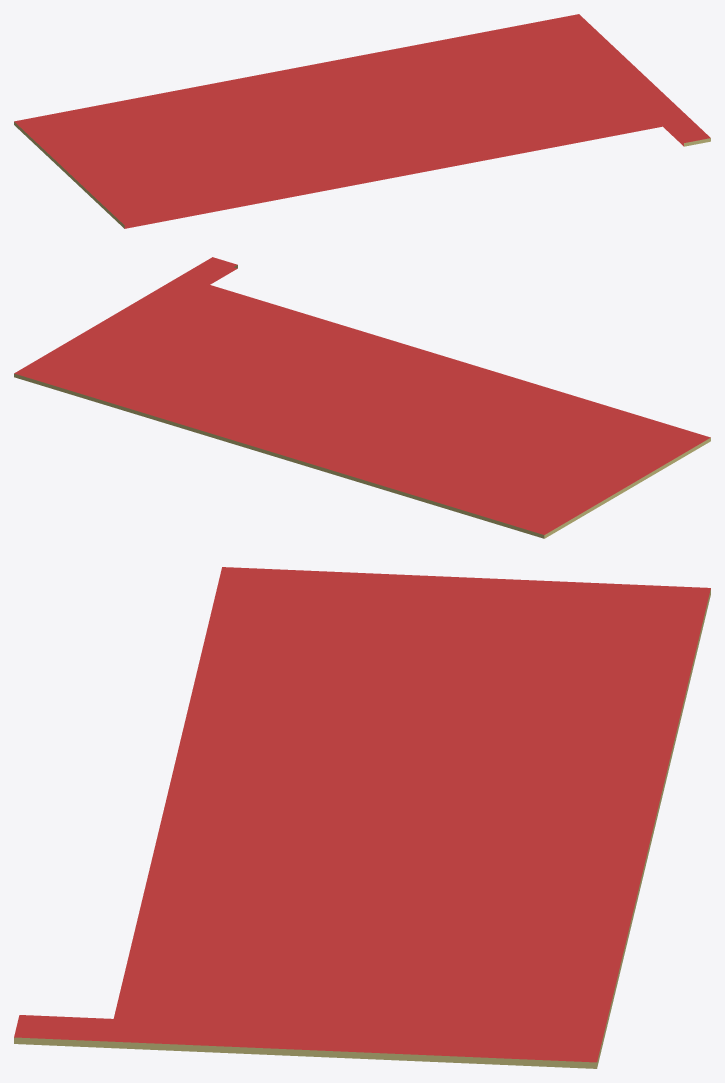
3 views of the same model, one above another, from view 1: azimuth 30°, elevation 25°; view 2: azimuth 150°, elevation 25°; view 3: azimuth 270°, elevation 25° (orthographic). The views are drawn at different scales.
Size of the model in its own units: 16.35 by 9.72 by 0.1.
